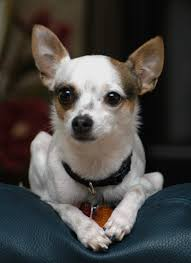chihuahua: (12, 17, 179, 262)
